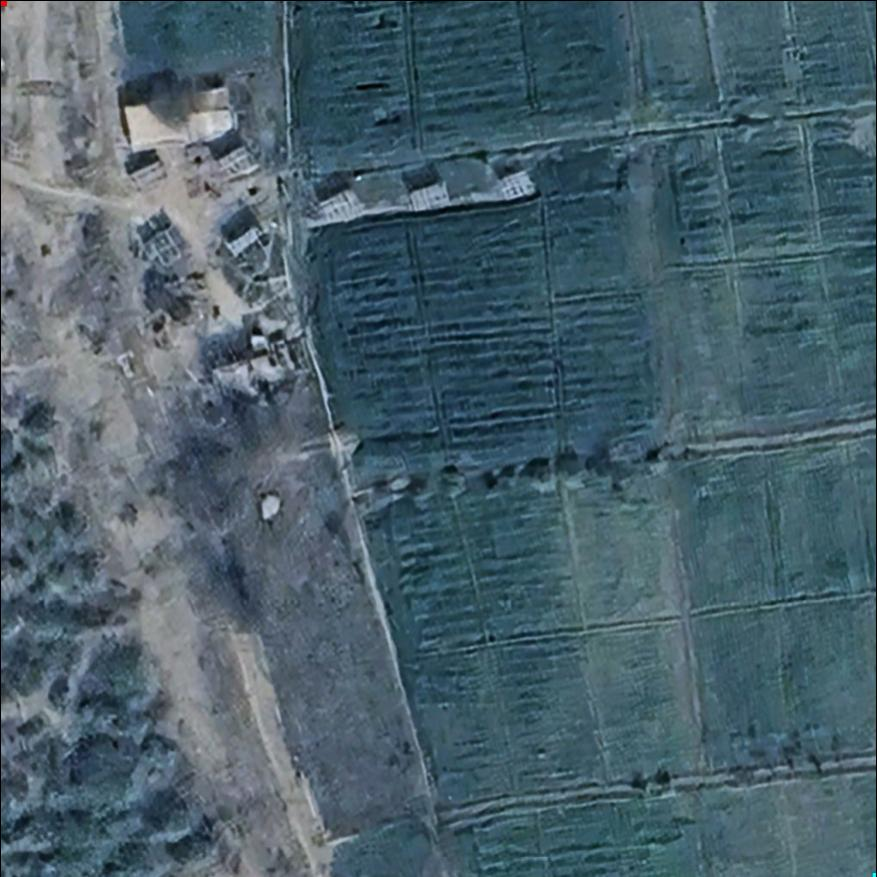Solarpanel: (134, 216, 195, 273), (214, 142, 264, 187), (122, 154, 174, 195), (319, 183, 366, 226), (224, 220, 271, 259), (404, 178, 452, 216), (495, 166, 537, 203)
